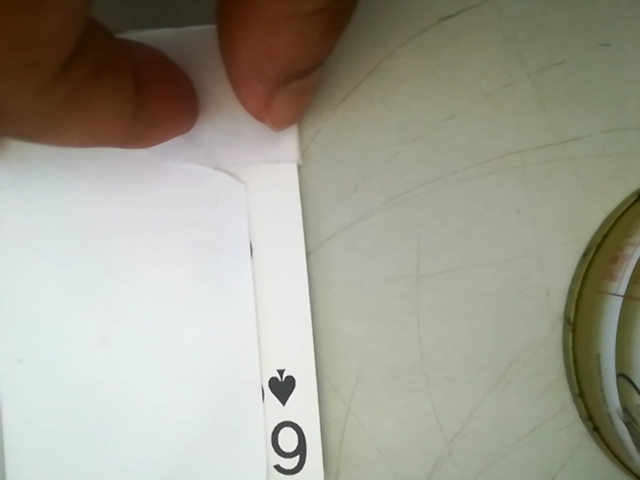ht 6: (243, 358, 317, 480)
